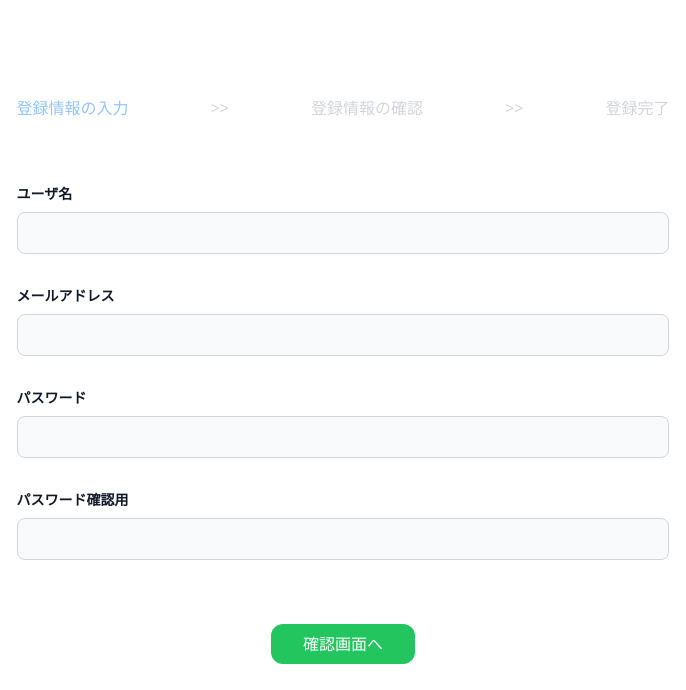
pages/auth/sign_up/components/SignUpInput › バリデーションエラーがある場合 › 確認画面へ遷移せず、パリデーションエラーが表示される
This screenshot has width=686, height=690.
What coordinates should you click on to do the following:
click the button
I would click on:
 (343, 644)
Its box is [271,624,415,664].
(page scrolled)
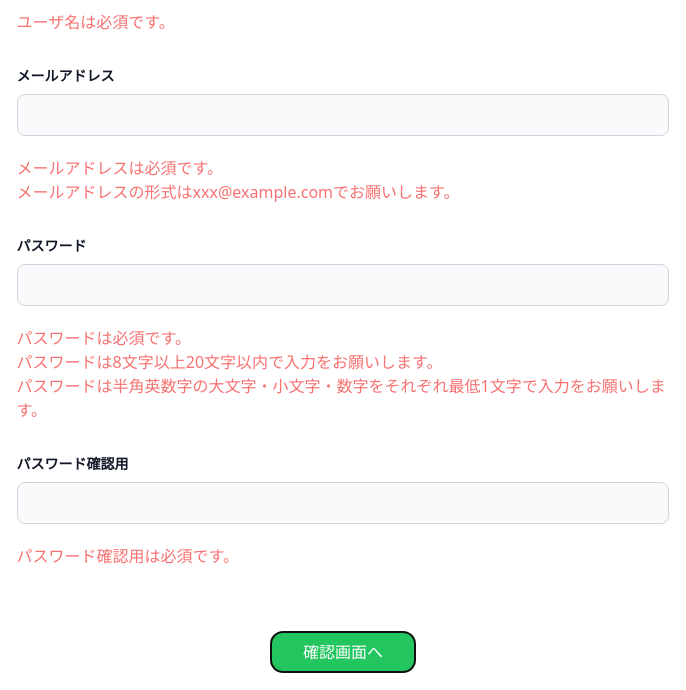
Check: the text "ユーザ名は必須です。" is shown, box [17,11,175,33]
Check: the text "メールアドレスは必須です。" is shown, box [17,157,223,179]
Check: the text "メールアドレスの形式はxxx@example.comでお願いします。" is shown, box [17,181,460,203]
